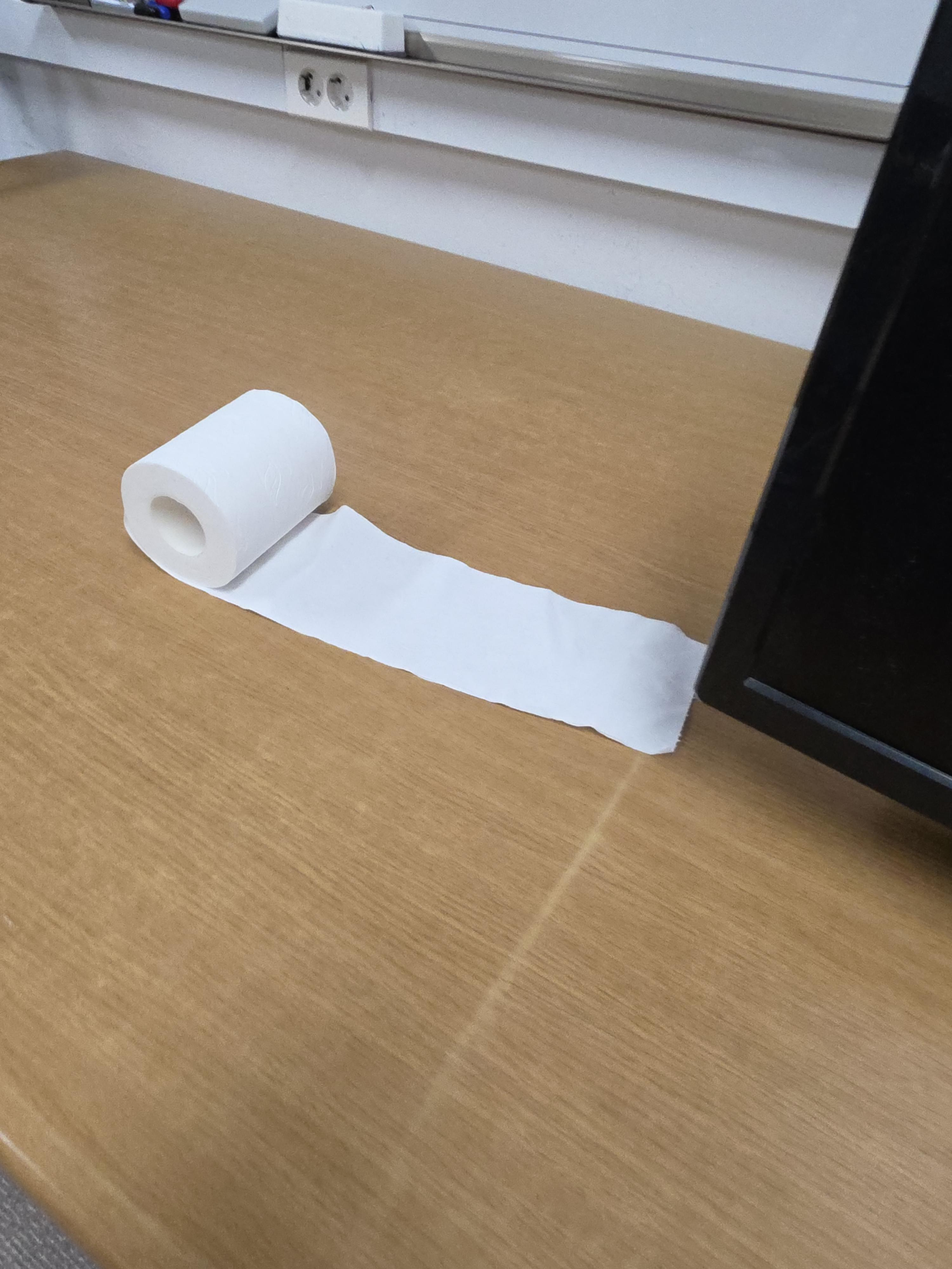tissue: (121, 389, 707, 755)
